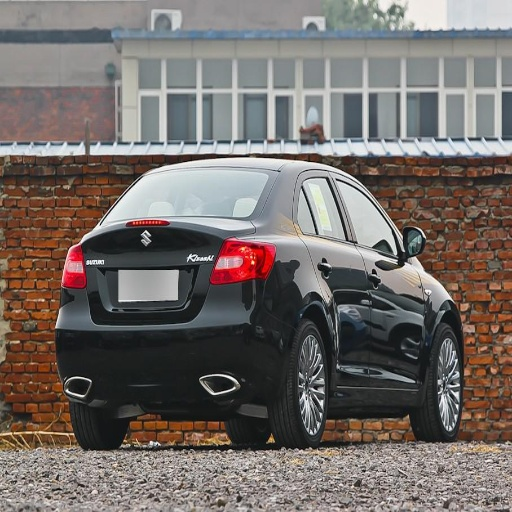back_bumper: (53, 279, 293, 410)
back_right_door: (296, 169, 366, 383)
